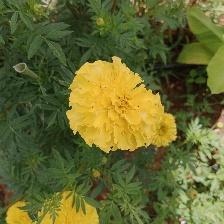marigold: (69, 58, 166, 151)
